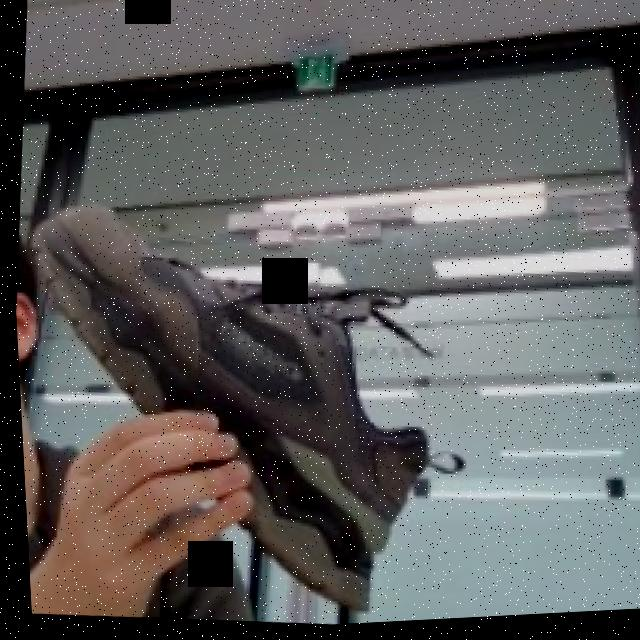shoes: (5, 106, 498, 638)
